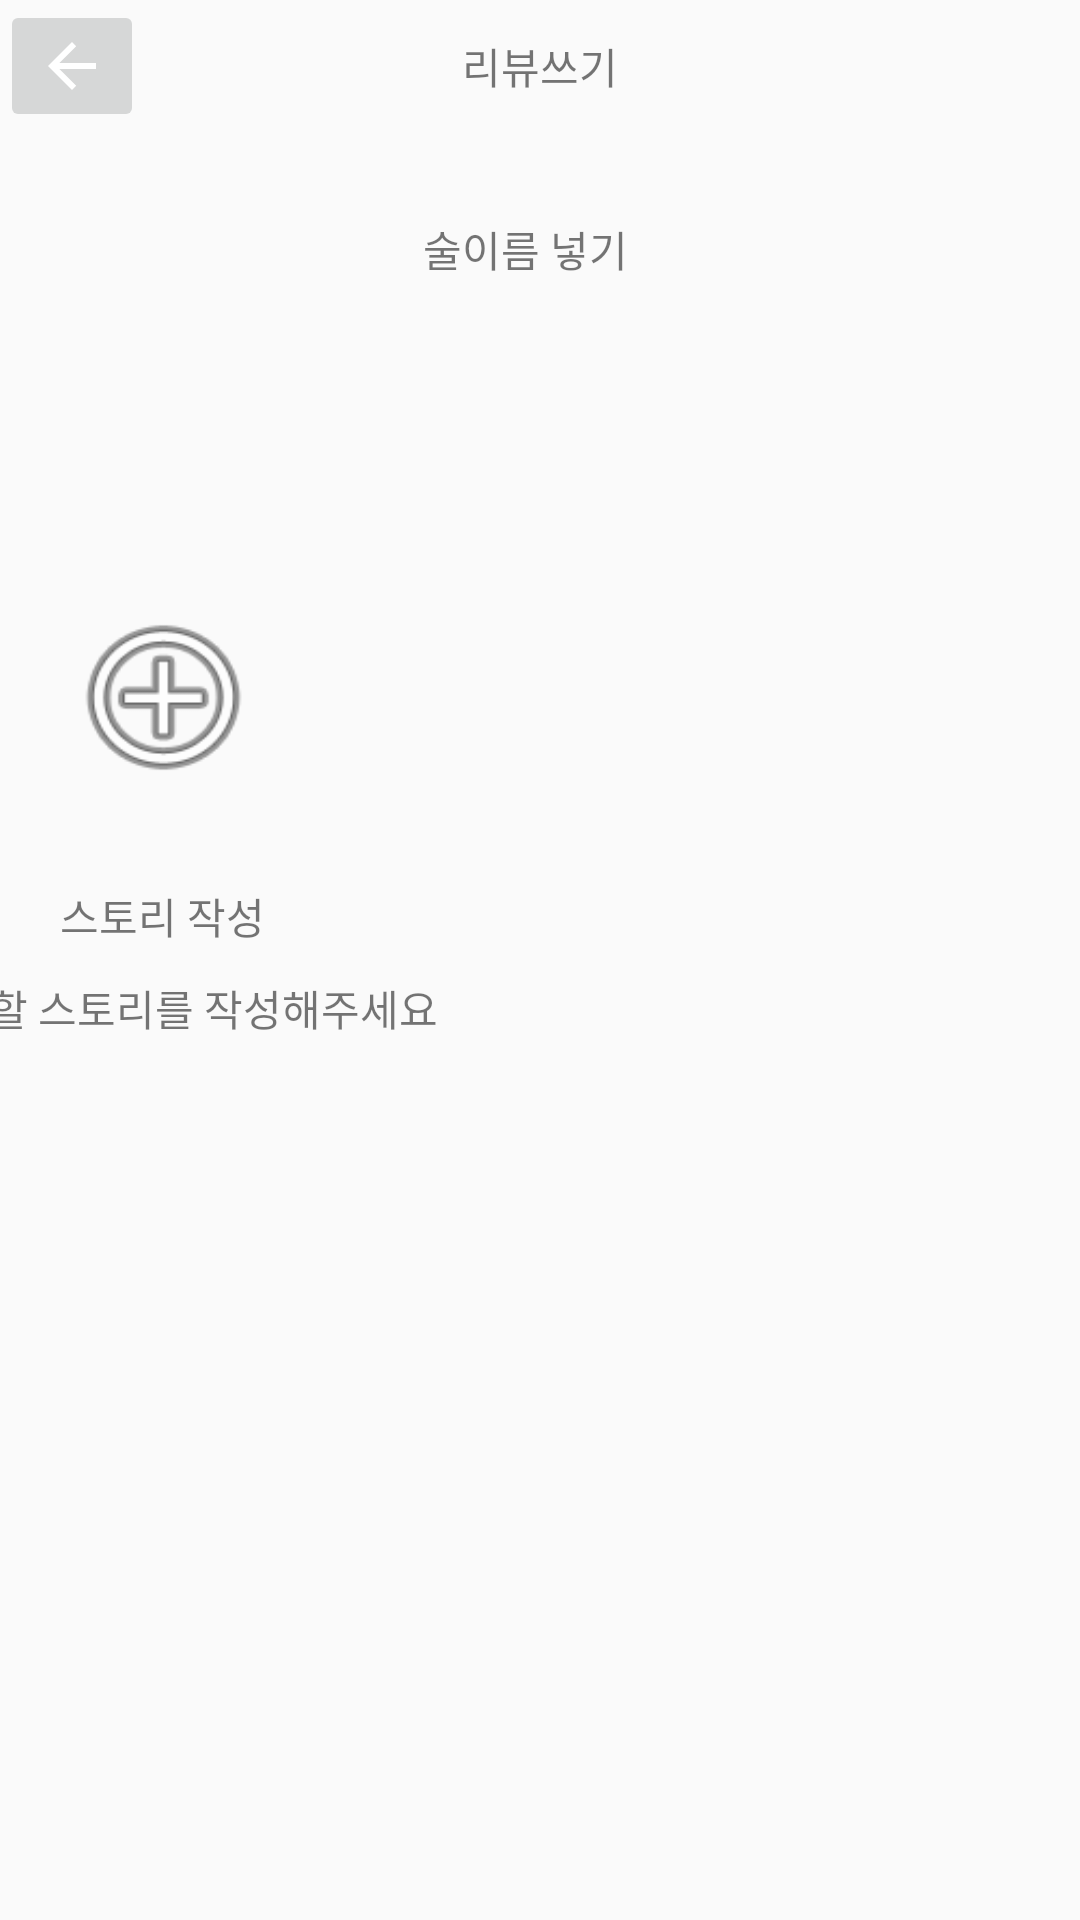

Named icons in this screenshot (1080 × 1920) and their bounding boxes, (x1, y1, x2, y2):
add: (86, 625, 241, 770)
